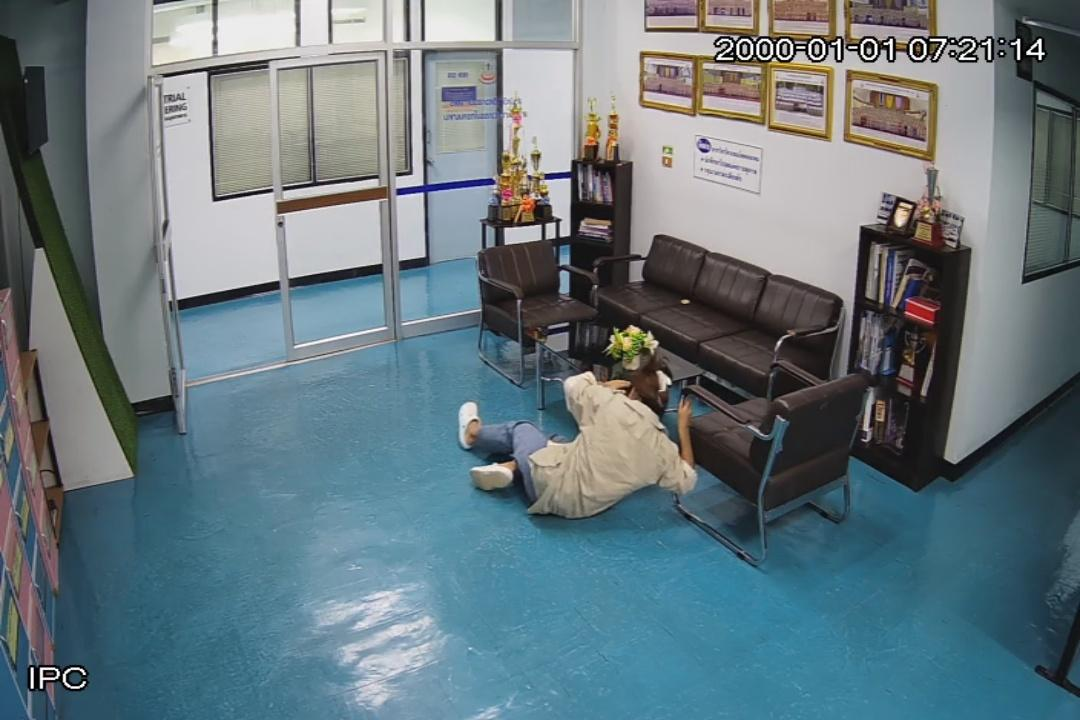fall: (460, 361, 701, 521)
